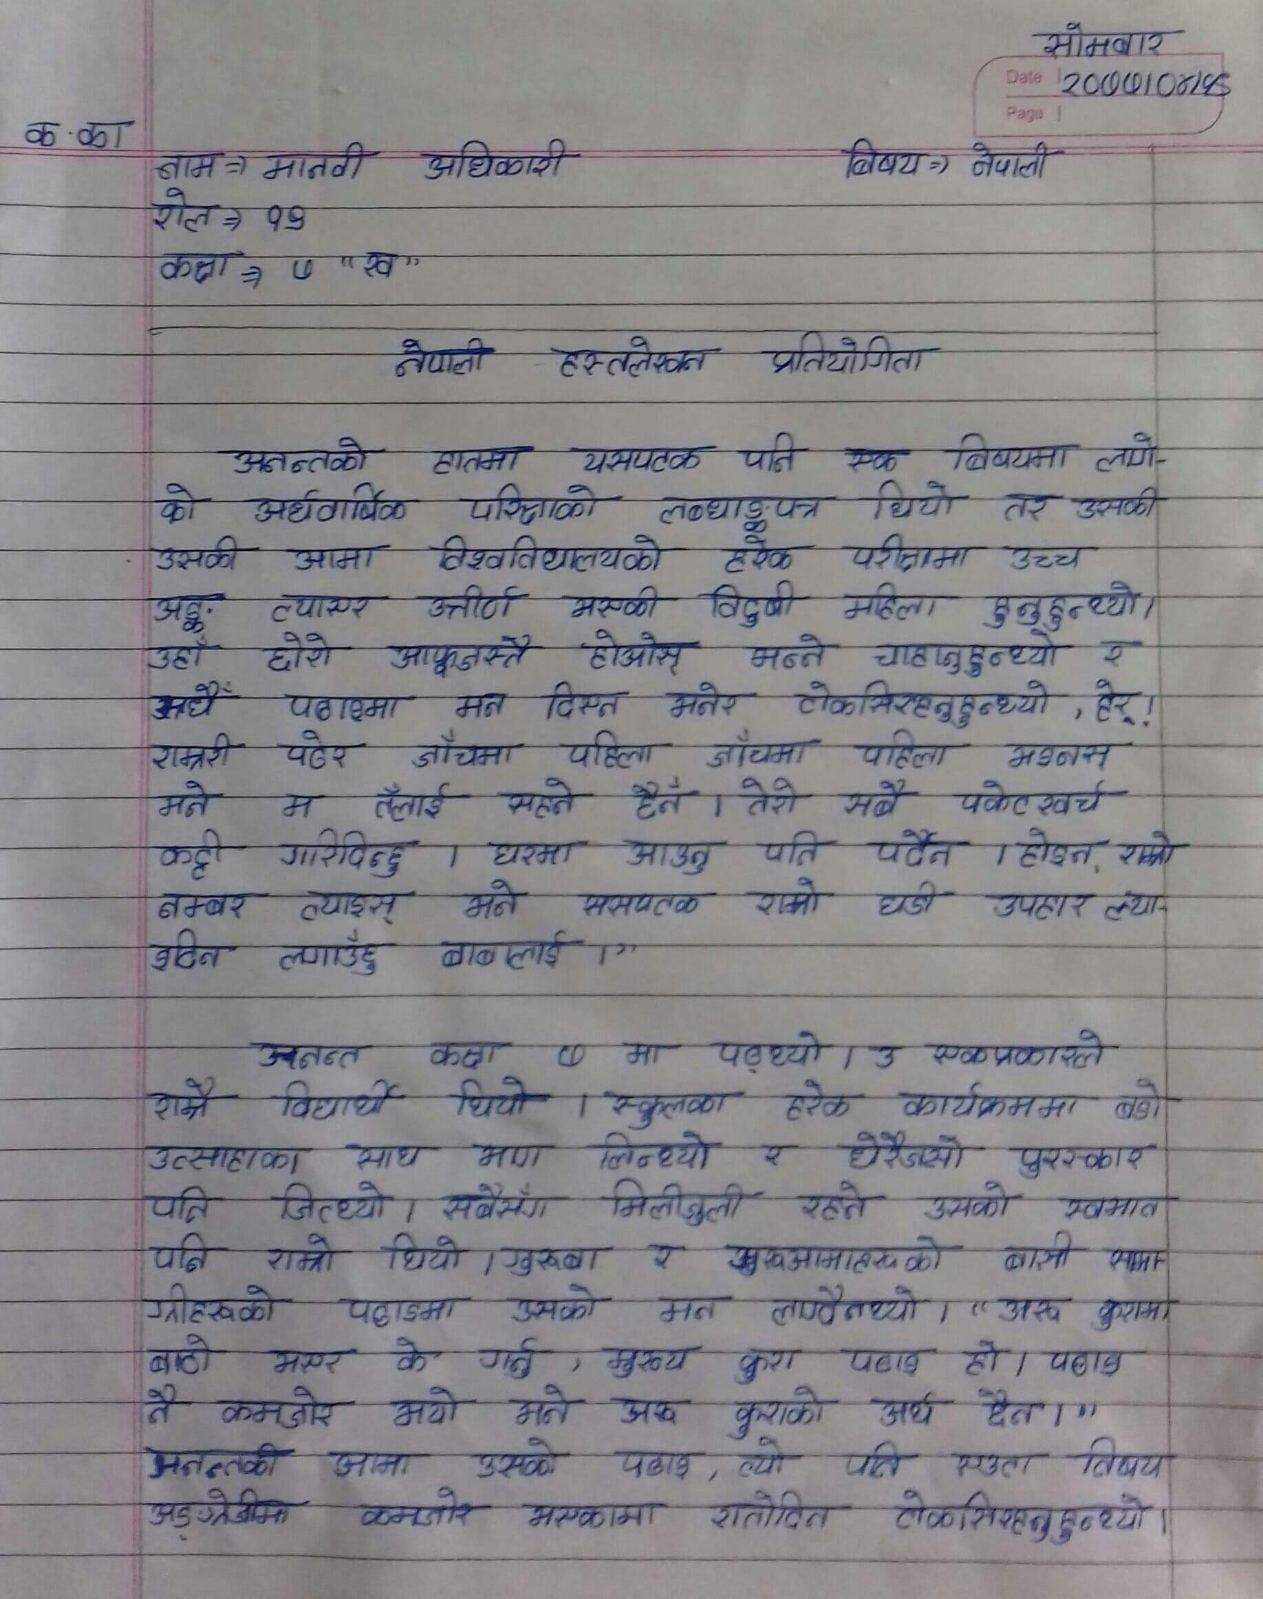text: (877, 1486, 1160, 1544), (781, 676, 1070, 729), (421, 530, 689, 581), (410, 128, 593, 200), (714, 1236, 967, 1284), (855, 627, 1079, 680), (761, 326, 946, 387), (926, 1027, 1134, 1080), (541, 328, 730, 385), (890, 1079, 1101, 1127), (213, 430, 397, 483), (595, 1175, 768, 1230), (251, 476, 419, 533), (380, 629, 557, 684), (984, 576, 1149, 633), (450, 478, 630, 530), (267, 827, 431, 881), (1063, 60, 1240, 109), (139, 1483, 309, 1534), (257, 132, 387, 199), (591, 1076, 746, 1130), (261, 1076, 415, 1129), (1023, 16, 1193, 64), (933, 427, 1089, 479), (141, 1137, 314, 1184), (761, 1284, 937, 1329), (206, 1384, 356, 1437), (691, 1489, 855, 1537), (379, 328, 508, 389), (580, 1124, 730, 1176), (649, 491, 836, 531), (839, 531, 987, 581), (431, 931, 591, 977), (271, 931, 399, 989), (138, 1435, 301, 1481), (521, 1491, 671, 1541), (350, 1491, 500, 1541), (136, 1284, 289, 1332), (999, 1134, 1160, 1180), (994, 726, 1134, 777), (567, 624, 704, 677), (434, 1178, 571, 1230), (700, 1023, 833, 1076), (1067, 1432, 1186, 1490), (270, 684, 421, 729), (697, 727, 826, 780), (948, 777, 1123, 816), (463, 1429, 572, 1491), (266, 1178, 400, 1229), (567, 439, 724, 482), (836, 1130, 981, 1176), (495, 1230, 614, 1284), (331, 1291, 479, 1334), (261, 722, 371, 779), (857, 478, 977, 530), (360, 776, 476, 829), (566, 886, 726, 925), (440, 1077, 557, 1130), (404, 729, 530, 779), (979, 880, 1101, 931), (852, 726, 967, 779), (293, 883, 421, 931), (559, 723, 672, 776), (274, 531, 402, 578), (836, 580, 964, 627), (145, 825, 251, 883), (144, 925, 251, 981), (260, 587, 393, 631), (697, 580, 816, 629), (376, 1380, 474, 1439), (724, 1384, 833, 1437), (476, 829, 591, 880), (617, 827, 727, 879), (500, 1278, 604, 1333), (866, 827, 977, 877), (493, 774, 601, 825), (916, 1182, 1024, 1234), (550, 584, 680, 627), (247, 1036, 380, 1077), (141, 676, 251, 727), (833, 131, 927, 189), (1037, 1341, 1150, 1389), (787, 1178, 890, 1230), (961, 138, 1070, 187), (714, 531, 819, 581), (1011, 824, 1110, 877), (254, 1229, 354, 1281), (249, 629, 357, 677), (774, 1073, 866, 1129), (136, 1073, 240, 1123), (314, 1443, 434, 1486), (143, 884, 269, 924), (1053, 1190, 1179, 1230), (141, 729, 247, 777), (424, 439, 539, 483), (413, 583, 533, 624), (598, 1334, 700, 1384), (987, 1229, 1090, 1277), (138, 1230, 238, 1280), (859, 876, 957, 927), (731, 426, 819, 482), (151, 239, 244, 291), (144, 532, 251, 578), (139, 1336, 230, 1389), (933, 1445, 1057, 1483), (373, 1229, 472, 1277), (617, 1435, 709, 1487), (143, 179, 219, 241), (144, 581, 230, 636), (835, 774, 927, 824), (646, 1284, 739, 1334), (601, 1390, 704, 1435), (999, 531, 1099, 576), (736, 770, 819, 824), (466, 1336, 559, 1384), (859, 1386, 955, 1433), (740, 633, 841, 677), (837, 1339, 938, 1384), (260, 1341, 363, 1384), (143, 779, 234, 827), (1070, 483, 1171, 526), (498, 1386, 593, 1432), (539, 683, 636, 727), (659, 679, 759, 722), (415, 1034, 517, 1076), (720, 1433, 803, 1483), (1086, 1293, 1181, 1337), (742, 876, 833, 922), (833, 433, 916, 483), (619, 774, 696, 827), (1090, 426, 1160, 483), (831, 1439, 916, 1486), (752, 825, 835, 873), (456, 876, 533, 927), (144, 479, 219, 531), (463, 1136, 559, 1176), (724, 1345, 816, 1386), (343, 1137, 437, 1177), (977, 1377, 1050, 1429), (1096, 883, 1173, 931), (1110, 1080, 1183, 1130), (140, 633, 226, 676), (136, 1188, 230, 1227), (993, 1289, 1073, 1332), (989, 489, 1067, 533), (1083, 674, 1144, 729), (71, 109, 141, 157), (1110, 831, 1186, 873), (257, 189, 321, 240), (149, 145, 230, 184), (382, 1334, 450, 1380), (136, 1381, 197, 1432), (1097, 1237, 1173, 1277), (269, 780, 334, 827), (611, 1037, 684, 1077), (633, 1237, 696, 1284), (447, 687, 521, 724), (955, 1333, 1012, 1381), (1090, 637, 1151, 677), (855, 1037, 910, 1081), (550, 1031, 600, 1073), (19, 112, 64, 154), (360, 244, 401, 284), (750, 1136, 800, 1169), (279, 254, 326, 289)
